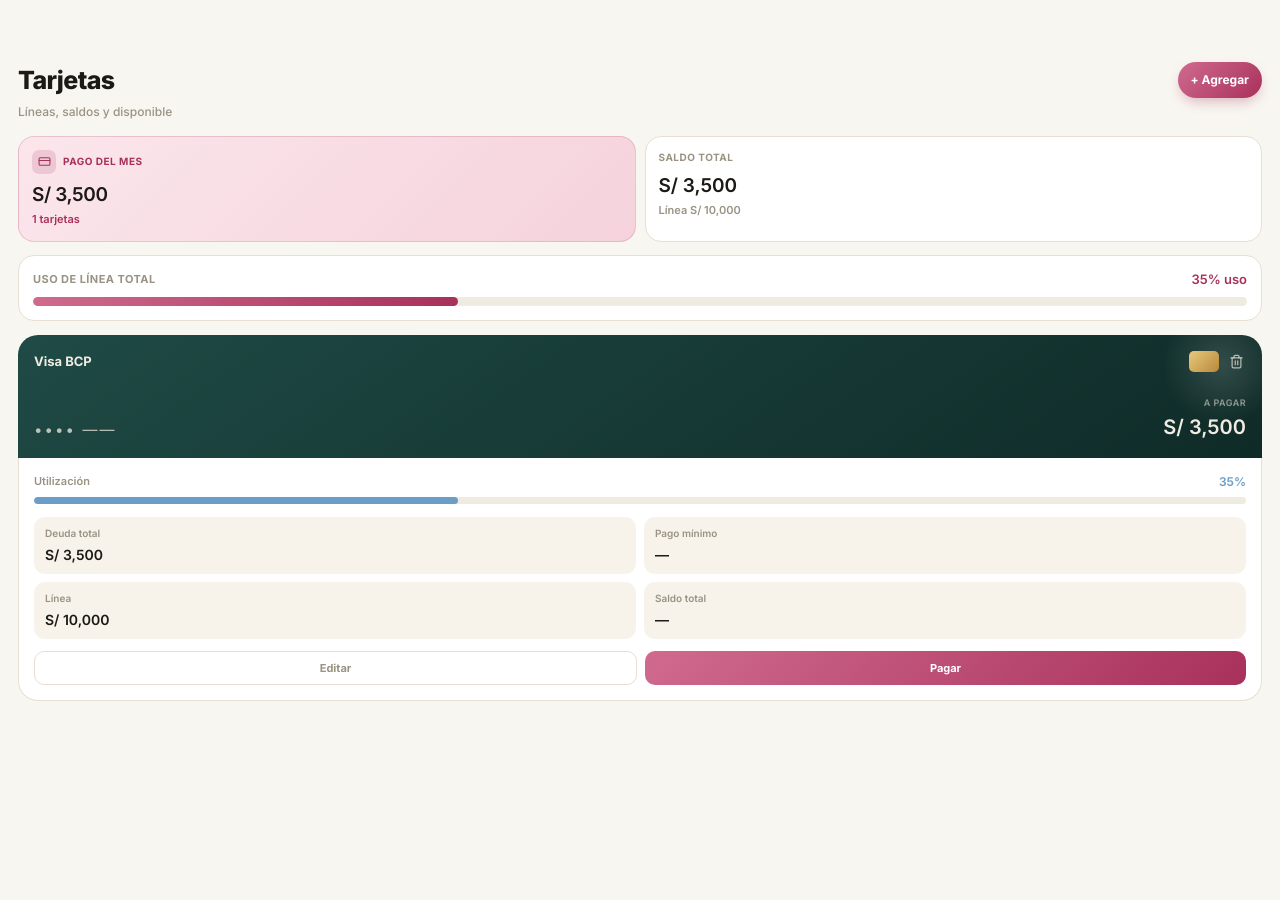
should TarjetasView › should cancel edit and return to display mode
The width and height of the screenshot is (1280, 900).
Click the button with test id "edit-button" at (336,668), box x1=34 y1=650 x2=637 y2=685
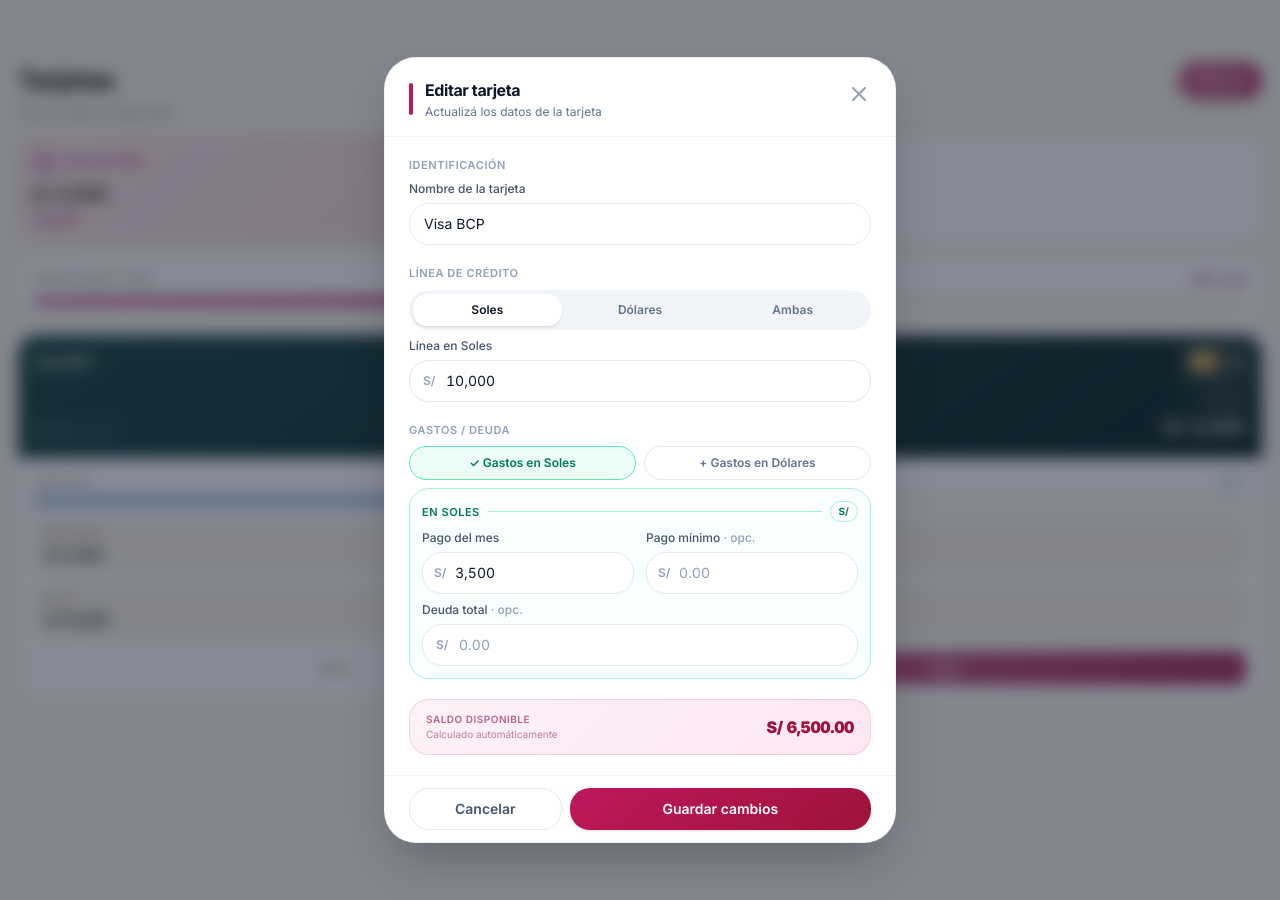
Check: the field with test id "descripcion-input" is shown, box x1=409 y1=203 x2=871 y2=245
Click the button named "Cerrar modal" at (859,94), box x1=843 y1=78 x2=875 y2=110
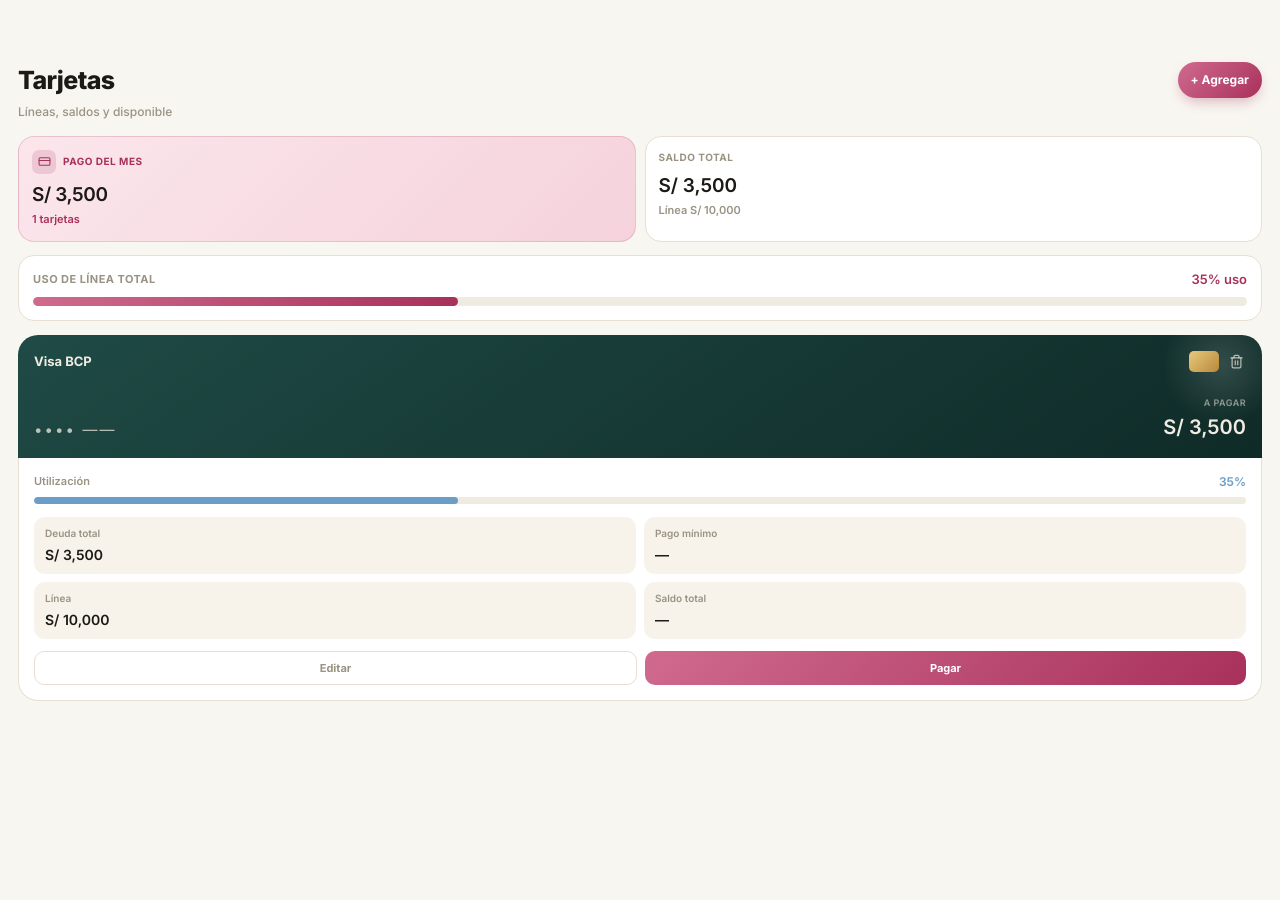
Check: the text "Visa BCP" is shown, box x1=34 y1=352 x2=92 y2=371
Check: the field with test id "descripcion-input" is gone
